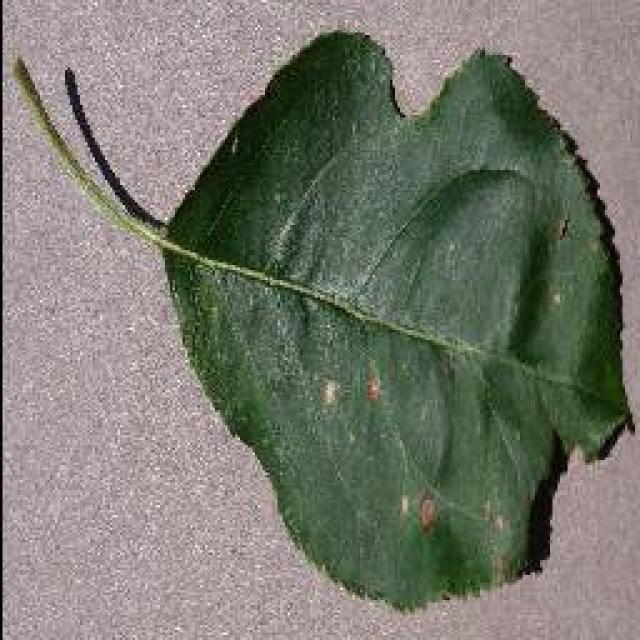apple scab disease: (15, 25, 635, 613)
